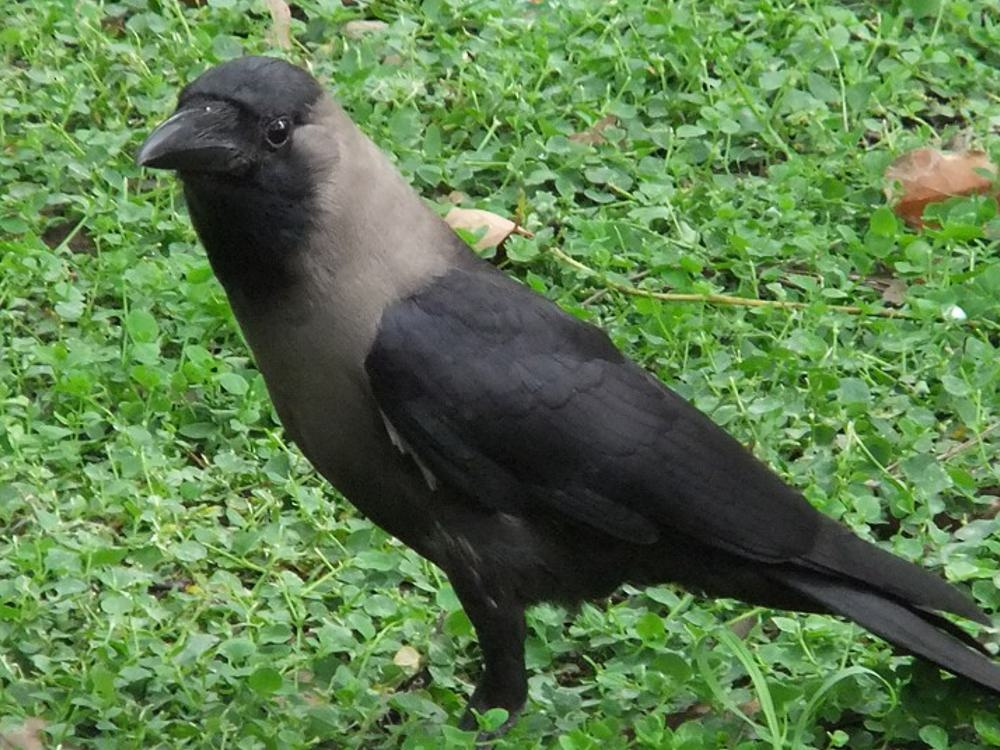crow: (140, 46, 998, 750)
